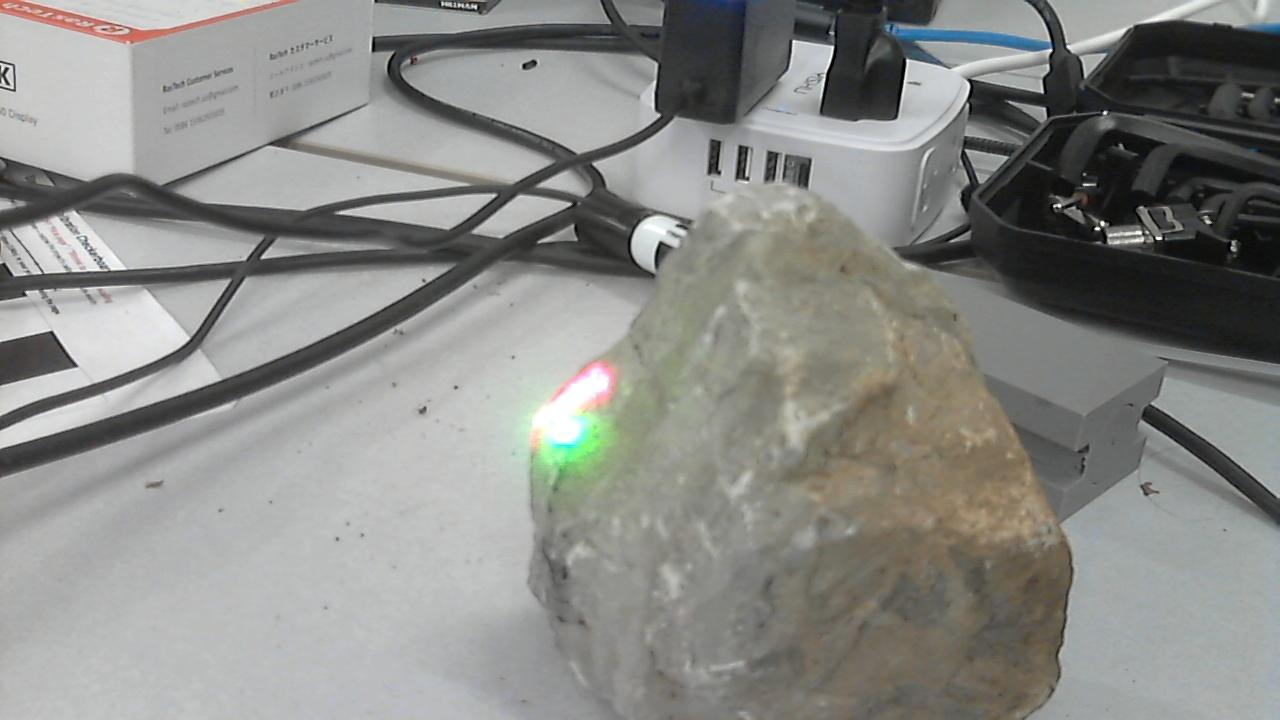Object rock - Material stone - Pdfname as35as4adsa: (526, 351, 619, 466)
